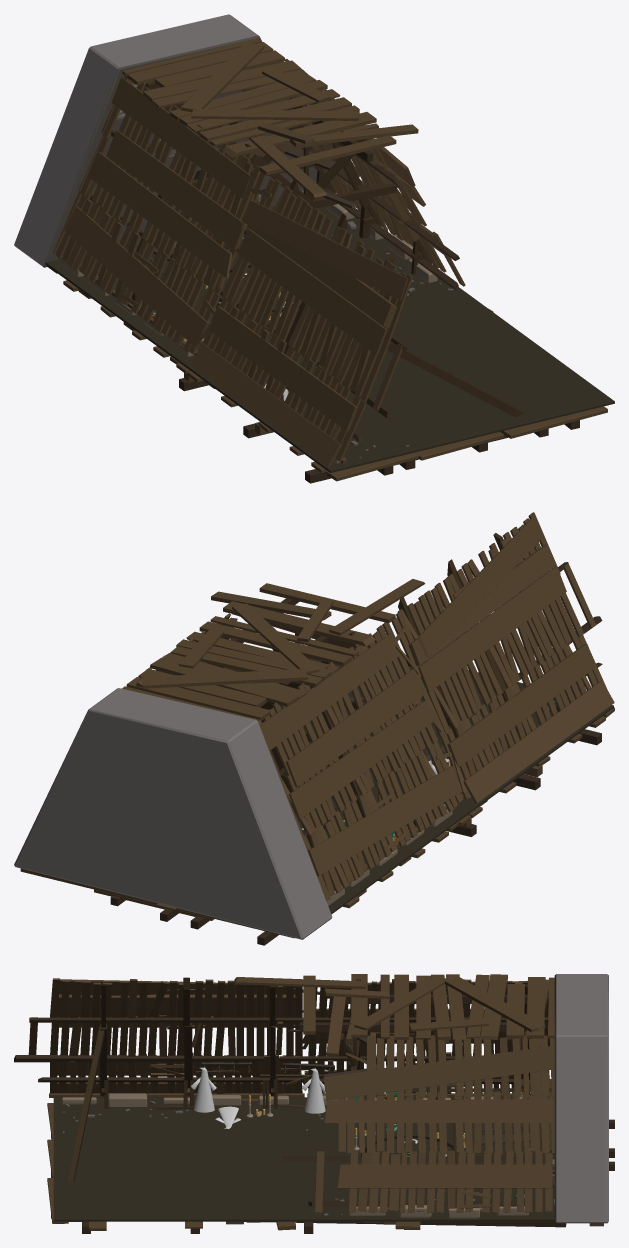
File: mysterious attic 1.fbx
3 renders of one model, top to bottom at view 1: azimuth 30°, elevation 25°; view 2: azimuth 150°, elevation 25°; view 3: azimuth 270°, elevation 25°, orthographic. The views are drawn at different scales.
Visible parts, largest first — view 1: polySurface106, polySurface16, atic:pCube320, atic:polySurface360; view 2: polySurface106, atic:pCube320, polySurface16, atic:polySurface360; view 3: polySurface106, polySurface16, atic:pCube320, atic:polySurface360, pCone8, atic:pCube333.
Boxes of the visible parts, x1,y1,x2,y2 form: polySurface106: (53, 38, 523, 467); polySurface16: (45, 206, 614, 483); atic:pCube320: (14, 14, 317, 267); atic:polySurface360: (58, 204, 437, 463); polySurface106: (122, 512, 614, 901); atic:pCube320: (14, 688, 332, 939); polySurface16: (20, 646, 614, 945); atic:polySurface360: (326, 796, 471, 905); polySurface106: (14, 974, 554, 1212); polySurface16: (47, 1097, 614, 1233); atic:pCube320: (554, 974, 608, 1223); atic:polySurface360: (61, 1093, 529, 1218); pCone8: (191, 1067, 325, 1128); atic:pCube333: (154, 1078, 551, 1191).
Bounding box in the file's own units: 133 × 90.54 × 267.
